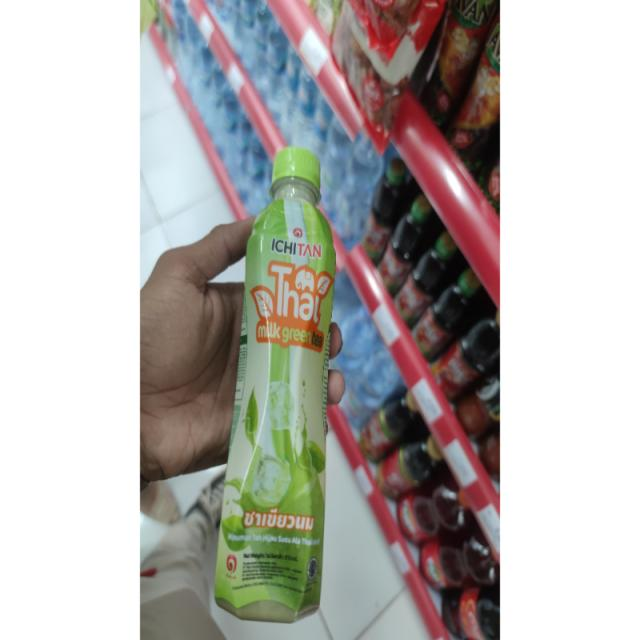botol: (211, 124, 360, 640)
